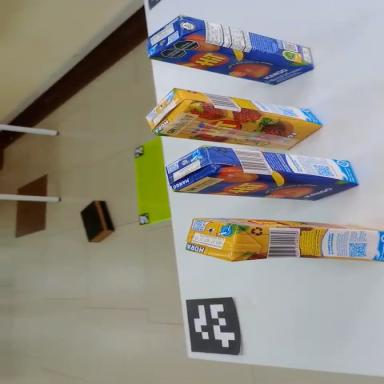HIT-MANGO: (144, 9, 317, 97), (166, 146, 359, 202)
HIT-MORA: (145, 85, 324, 160), (186, 218, 384, 267)
cara_F: (148, 31, 314, 95), (157, 100, 323, 161), (175, 168, 358, 209), (196, 219, 382, 231)
